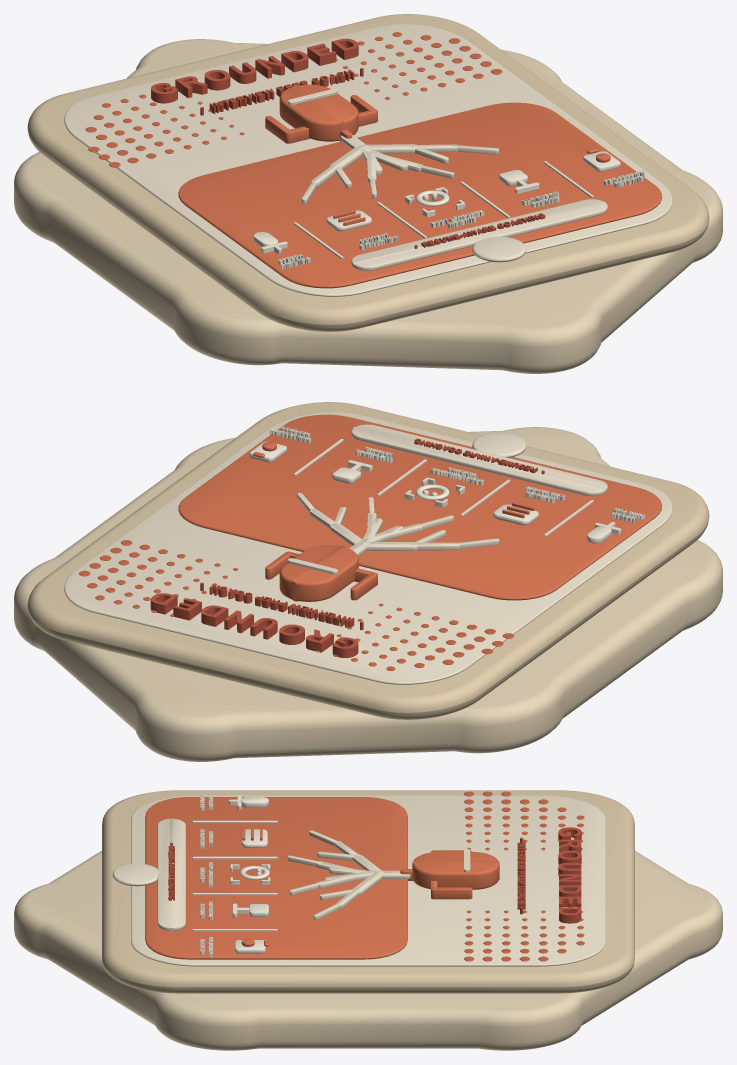
The model's file is GroundedInterviewCoach.glb.
The picture shows the model from 3 angles, top to bottom: view 1: azimuth 30°, elevation 25°; view 2: azimuth 150°, elevation 25°; view 3: azimuth 270°, elevation 25°; orthographic projection. The views are drawn at different scales.
Parts seen in each view (by area): view 1: GR_Tray, GR_Band, GR_Content, GR_Card, GR_Pill, GR_Title, GR_MicHead, GR_Sub, GR_Emb, GR_PillT; view 2: GR_Tray, GR_Band, GR_Content, GR_Card, GR_Pill, GR_Title, GR_MicHead, GR_Sub, GR_Emb, GR_PillT; view 3: GR_Tray, GR_Band, GR_Content, GR_Card, GR_Pill, GR_MicHead, GR_Title, GR_Emb, GR_Sub, GR_YokeR.
Boxes of the visible parts, x1=… form: GR_Tray: x1=14, y1=39, x2=722, y2=373; GR_Band: x1=178, y1=102, x2=662, y2=288; GR_Content: x1=64, y1=24, x2=672, y2=296; GR_Card: x1=27, y1=14, x2=709, y2=331; GR_Pill: x1=351, y1=199, x2=607, y2=270; GR_Title: x1=151, y1=38, x2=358, y2=103; GR_MicHead: x1=279, y1=84, x2=358, y2=141; GR_Sub: x1=200, y1=68, x2=363, y2=115; GR_Emb: x1=472, y1=236, x2=526, y2=262; GR_PillT: x1=414, y1=213, x2=545, y2=248; GR_Tray: x1=14, y1=427, x2=722, y2=761; GR_Band: x1=178, y1=414, x2=662, y2=600; GR_Content: x1=64, y1=412, x2=672, y2=684; GR_Card: x1=27, y1=402, x2=709, y2=719; GR_Pill: x1=351, y1=424, x2=607, y2=496; GR_Title: x1=150, y1=593, x2=358, y2=657; GR_MicHead: x1=279, y1=545, x2=358, y2=601; GR_Sub: x1=200, y1=582, x2=363, y2=630; GR_Emb: x1=472, y1=433, x2=526, y2=457; GR_PillT: x1=414, y1=438, x2=544, y2=474; GR_Tray: x1=14, y1=851, x2=722, y2=1050; GR_Band: x1=145, y1=797, x2=407, y2=959; GR_Content: x1=131, y1=795, x2=605, y2=966; GR_Card: x1=102, y1=790, x2=634, y2=993; GR_Pill: x1=157, y1=818, x2=185, y2=931; GR_MicHead: x1=412, y1=852, x2=499, y2=889; GR_Title: x1=558, y1=827, x2=581, y2=923; GR_Emb: x1=112, y1=863, x2=158, y2=886; GR_Sub: x1=517, y1=837, x2=525, y2=914; GR_YokeR: x1=431, y1=887, x2=472, y2=899.
Bounding box in the file's own units: 2.46 × 0.415 × 3.24.
